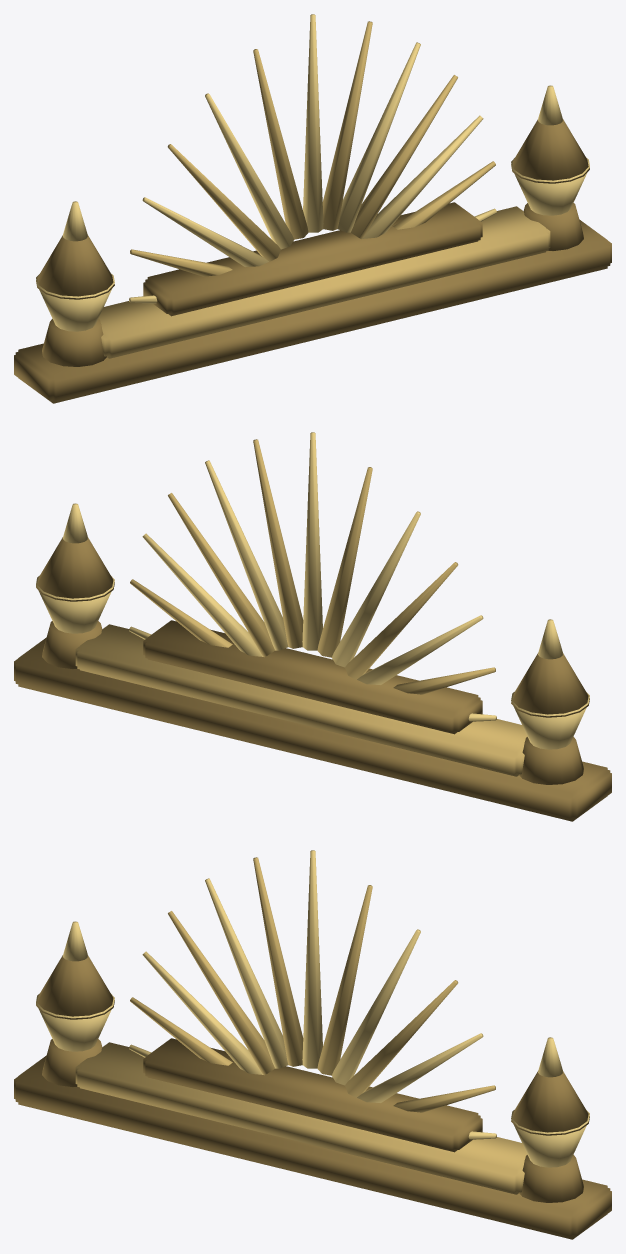
File: elevator_crest.glb
3 renders of one model, top to bottom at view 1: azimuth 30°, elevation 25°; view 2: azimuth 150°, elevation 25°; view 3: azimuth 330°, elevation 25°, orthographic.
Parts seen in each view (by area): view 1: Cornice_0, Cornice_1, Cornice_2, Finial_1.92_2, Finial_-1.92_2, SunRay_0, SunRay_1, SunRay_2, SunRay_-1, SunRay_3, SunRay_-2, Finial_-1.92_0 (+10 smaller); view 2: Cornice_0, Cornice_1, Cornice_2, Finial_1.92_2, Finial_-1.92_2, SunRay_0, SunRay_1, SunRay_2, SunRay_-1, SunRay_3, SunRay_-2, Finial_-1.92_0 (+10 smaller); view 3: Cornice_0, Cornice_1, Cornice_2, Finial_-1.92_2, Finial_1.92_2, SunRay_0, SunRay_-1, SunRay_-2, SunRay_1, SunRay_-3, SunRay_2, Finial_1.92_0 (+10 smaller).
Boxes of the visible parts, left/top/right/bottom form: Cornice_0: left=14, top=219, right=611, bottom=403; Cornice_1: left=98, top=206, right=550, bottom=358; Cornice_2: left=143, top=202, right=482, bottom=316; Finial_1.92_2: left=511, top=119, right=589, bottom=183; Finial_-1.92_2: left=36, top=235, right=114, bottom=299; SunRay_0: left=303, top=14, right=323, bottom=232; SunRay_1: left=322, top=21, right=372, bottom=230; SunRay_2: left=337, top=42, right=420, bottom=232; SunRay_-1: left=253, top=49, right=308, bottom=239; SunRay_3: left=351, top=75, right=457, bottom=239; SunRay_-2: left=205, top=93, right=294, bottom=249; Finial_-1.92_0: left=42, top=319, right=106, bottom=366; Cornice_0: left=14, top=637, right=611, bottom=821; Cornice_1: left=75, top=624, right=527, bottom=776; Cornice_2: left=143, top=620, right=482, bottom=734; Finial_1.92_2: left=36, top=537, right=114, bottom=601; Finial_-1.92_2: left=511, top=653, right=589, bottom=717; SunRay_0: left=302, top=432, right=322, bottom=650; SunRay_1: left=253, top=439, right=303, bottom=648; SunRay_2: left=205, top=460, right=288, bottom=650; SunRay_-1: left=317, top=467, right=372, bottom=657; SunRay_3: left=168, top=493, right=274, bottom=657; SunRay_-2: left=331, top=511, right=420, bottom=667; Finial_-1.92_0: left=519, top=737, right=583, bottom=784; Cornice_0: left=14, top=1055, right=611, bottom=1239; Cornice_1: left=75, top=1042, right=527, bottom=1194; Cornice_2: left=143, top=1038, right=482, bottom=1152; Finial_-1.92_2: left=36, top=955, right=114, bottom=1019; Finial_1.92_2: left=511, top=1071, right=589, bottom=1135; SunRay_0: left=302, top=850, right=322, bottom=1068; SunRay_-1: left=253, top=857, right=303, bottom=1066; SunRay_-2: left=205, top=878, right=288, bottom=1068; SunRay_1: left=317, top=885, right=372, bottom=1075; SunRay_-3: left=168, top=911, right=274, bottom=1075; SunRay_2: left=331, top=929, right=420, bottom=1085; Finial_1.92_0: left=519, top=1155, right=583, bottom=1202.
Bounding box in the file's own units: 4.55 × 2.38 × 0.56.
